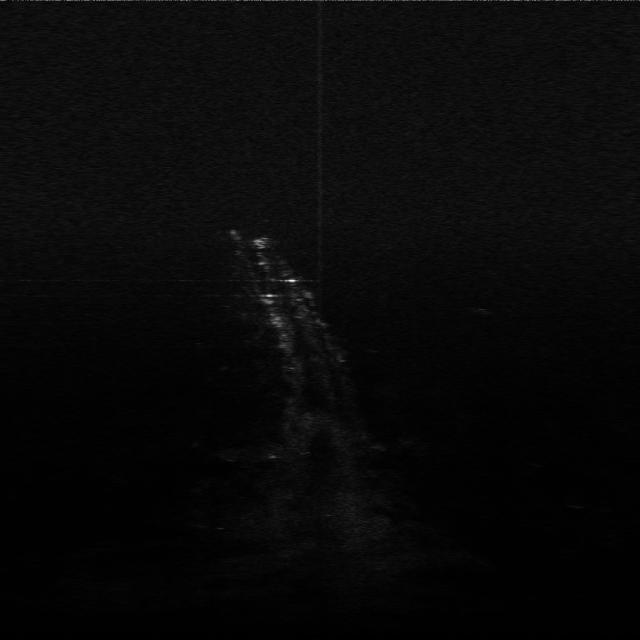rov: (248, 234, 272, 252)
